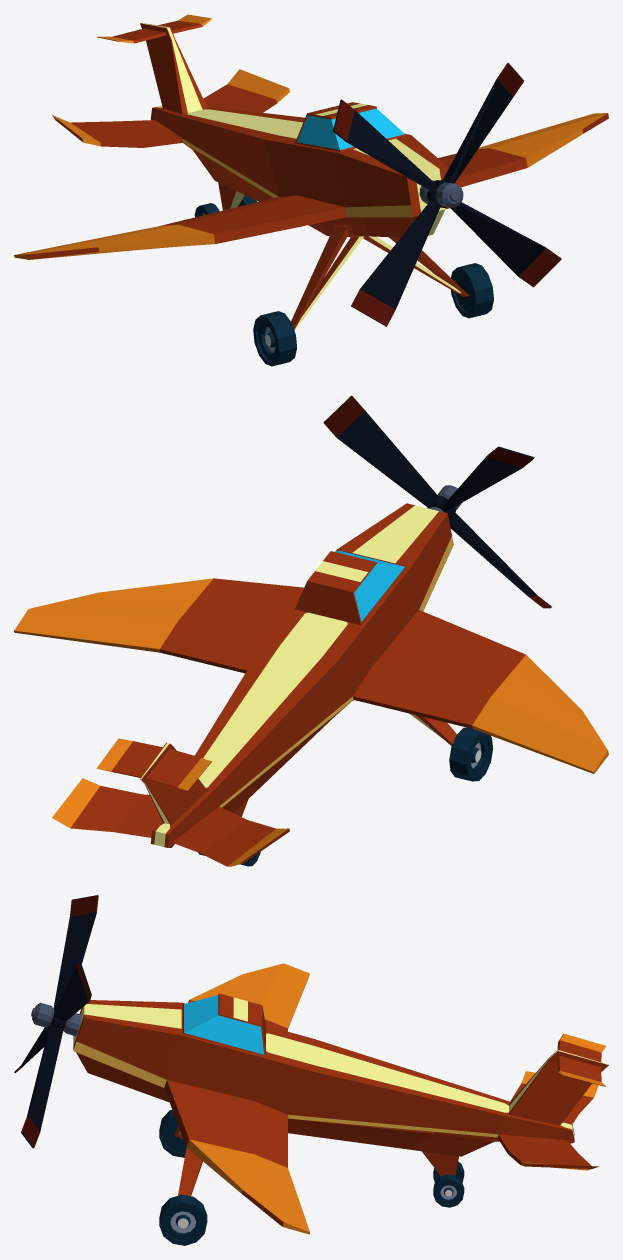
Rendered from aviao.glb.
3 views of the same model, one above another, from view 1: azimuth 30°, elevation 25°; view 2: azimuth 150°, elevation 25°; view 3: azimuth 270°, elevation 25° (orthographic). The views are drawn at different scales.
Parts seen in each view (by area): view 1: Cube, Cylinder.002, Cylinder.004, Cylinder.003, Cylinder.001; view 2: Cube, Cylinder.002, Cylinder.004; view 3: Cube, Cylinder.002, Cylinder.003, Cylinder.005, Cylinder.004, Cylinder.001.
Boxes of the visible parts, <box> form: Cube: <box>14,14,608,330</box>; Cylinder.002: <box>333,62,561,326</box>; Cylinder.004: <box>253,311,297,366</box>; Cylinder.003: <box>451,263,493,318</box>; Cylinder.001: <box>419,180,463,207</box>; Cube: <box>14,503,608,866</box>; Cylinder.002: <box>323,395,551,608</box>; Cylinder.004: <box>449,727,493,781</box>; Cube: <box>73,963,608,1234</box>; Cylinder.002: <box>14,895,98,1148</box>; Cylinder.003: <box>159,1194,207,1245</box>; Cylinder.005: <box>433,1174,464,1207</box>; Cylinder.004: <box>159,1109,186,1157</box>; Cylinder.001: <box>31,1002,81,1036</box>.
Size of the model in its own units: 8.47 by 4.16 by 8.22.
1 material, 1 textured.
